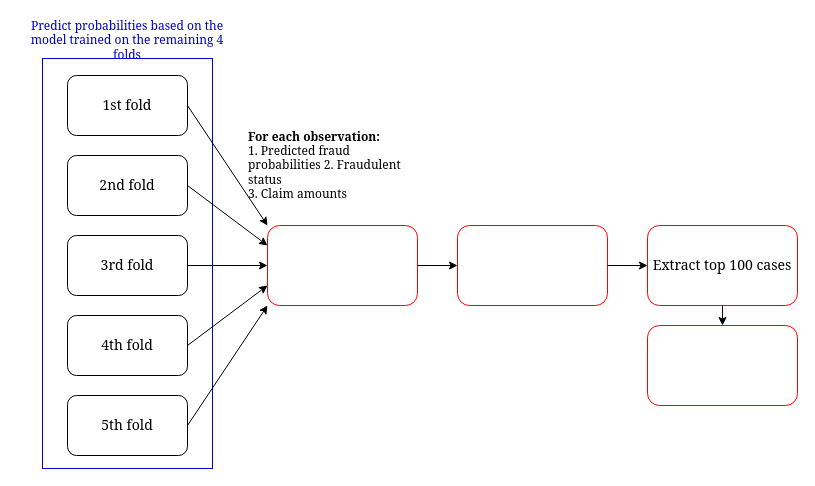
Some shapes in this 815 by 486 pixel diagram are drawn without their labels. The centre of each missing label's shape, as x and y in pixels:
Concatenation: pixel 342 265
Sorted in descending order of estimated probabilities: pixel 532 265
Weighted sum with claims amount for true positive cases: pixel 722 365
